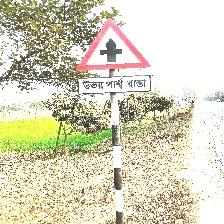Crossroad: (76, 19, 152, 97)
